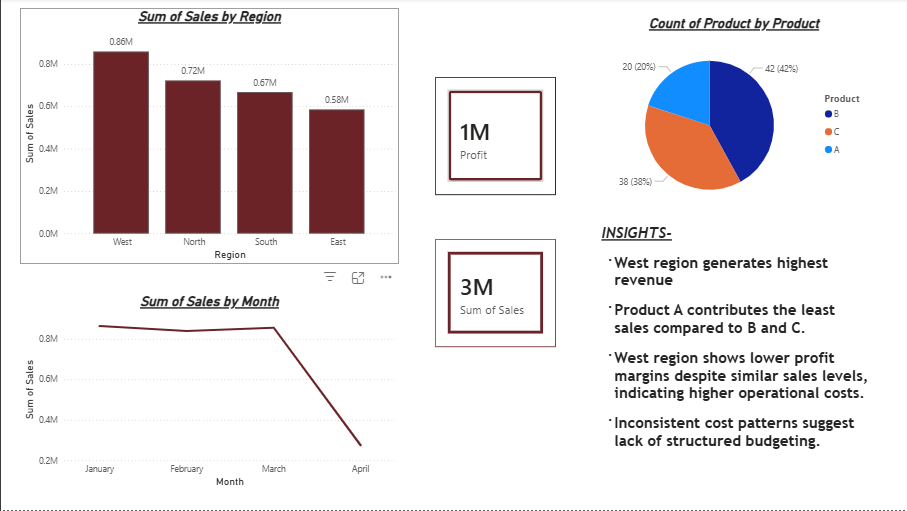

What the dashboard file says about the page in this screenshot:
{"tool":"powerbi","page":{"name":"Page 1","canvas":[1280,720],"ordinal":0},"visuals":[{"type":"clusteredColumnChart","fields":{"Category":["Sales Data.Region"],"Y":["Sum(Sales Data.Sales)"]},"box":[26.7,14.1,533.1,360.1],"z":0},{"type":"lineChart","fields":{"Category":["Sales Data.Date.Variation.Date Hierarchy.Month"],"Y":["Sum(Sales Data.Sales)"]},"box":[26.7,414.9,533.1,278.5],"z":1000},{"type":"pieChart","fields":{"Category":["Sales Data.Product"],"Y":["CountNonNull(Sales Data.Product)"]},"box":[829.9,23.9,402.3,288.4],"z":2000},{"type":"cardVisual","fields":{"Data":["Sum(Sales Data.Sales)"]},"box":[610.5,339,170.2,151.9],"z":3000},{"type":"cardVisual","fields":{"Data":["Sales Data.Profit"]},"box":[610.5,111.1,170.2,166],"z":4000},{"type":"textbox","box":[839.7,312.3,392.4,362.9],"z":4001}]}

Visuals, with their boxes in screenshot pixels (x1, y1, x2, y2), scaled from the page's 1280x720 canvas onto the 907x511 screenshot:
clusteredColumnChart - Sales Data.Region x Sum(Sales Data.Sales): locate(19, 10, 397, 266)
lineChart - Sales Data.Date.Variation.Date Hierarchy.Month x Sum(Sales Data.Sales): locate(19, 294, 397, 492)
pieChart - Sales Data.Product x CountNonNull(Sales Data.Product): locate(588, 17, 873, 222)
cardVisual - Sum(Sales Data.Sales): locate(433, 241, 553, 348)
cardVisual - Sales Data.Profit: locate(433, 79, 553, 197)
textbox: locate(595, 222, 873, 479)
